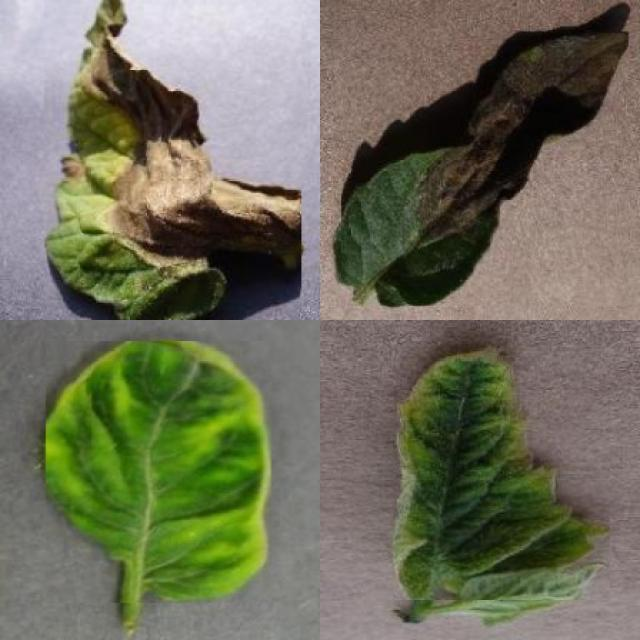Late Blight: (45, 0, 302, 320), (332, 31, 628, 306)
Yellow Leaf Curl Virus: (45, 340, 272, 603), (393, 346, 610, 600)
